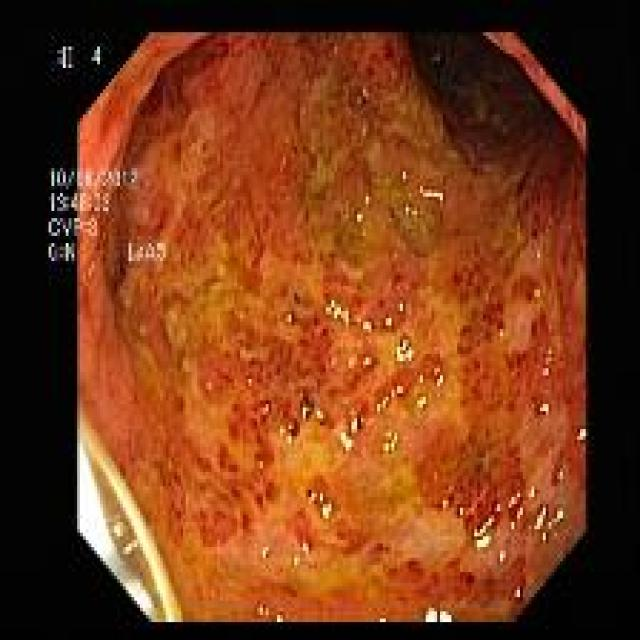ulcerative-colitis: (81, 36, 569, 620)
